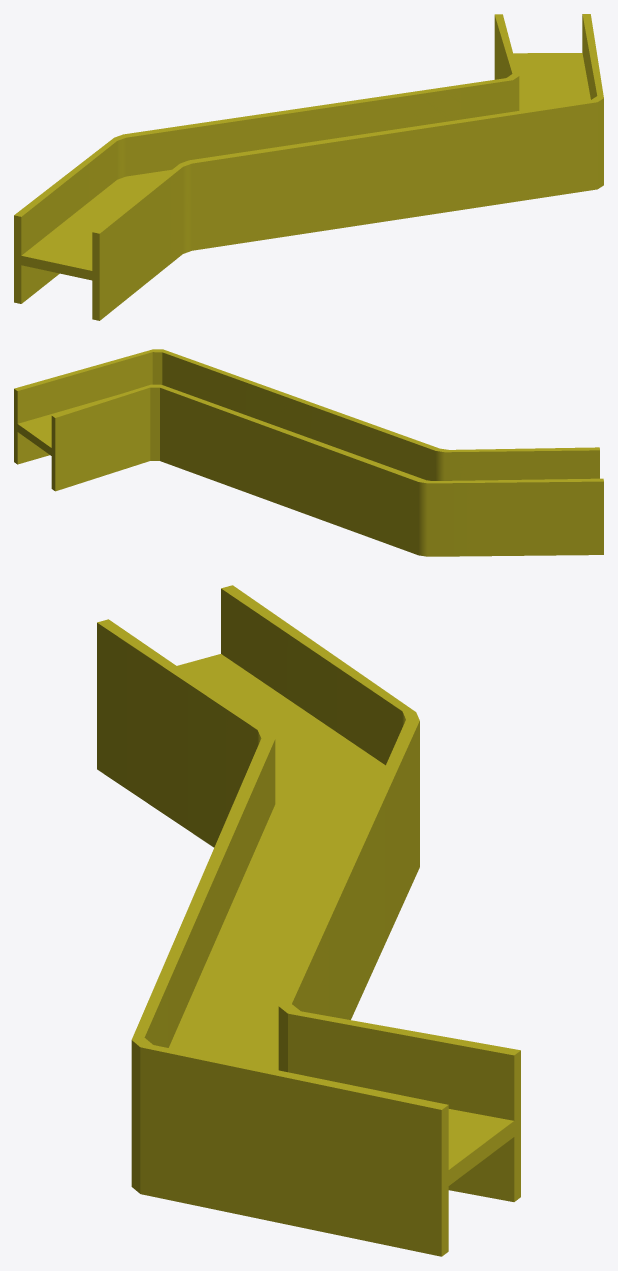
File: mesh_Girder3_v2.fbx
The picture shows the model from 3 angles, top to bottom: view 1: azimuth 30°, elevation 25°; view 2: azimuth 150°, elevation 25°; view 3: azimuth 270°, elevation 25°; orthographic projection. The views are drawn at different scales.
Parts seen in each view (by area): view 1: mesh_Girder3_v2_0; view 2: mesh_Girder3_v2_0; view 3: mesh_Girder3_v2_0.
Boxes of the visible parts, x1,y1,x2,y2 form: mesh_Girder3_v2_0: (14,14,603,320); mesh_Girder3_v2_0: (14,349,603,556); mesh_Girder3_v2_0: (97,585,520,1256).
Bounding box in the file's own units: 325 × 42.44 × 111.
